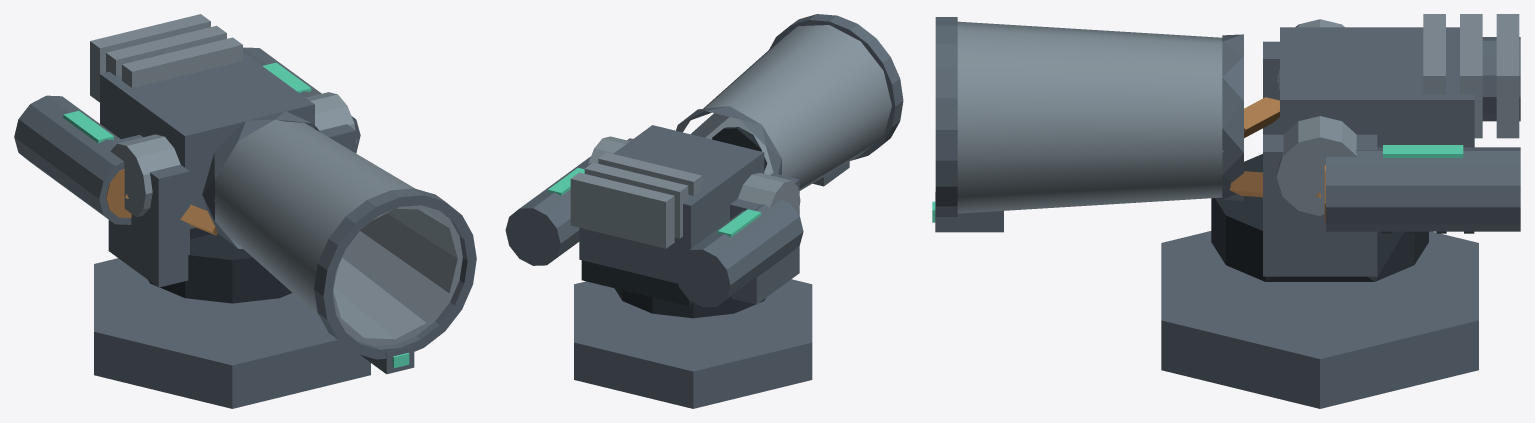
File: plasma_t2_d0.meshopt.glb
3 renders of one model, left to right at view 1: azimuth 30°, elevation 25°; view 2: azimuth 150°, elevation 25°; view 3: azimuth 270°, elevation 25°, orthographic. The views are drawn at different scales.
Parts seen in each view (by area): view 1: ROOT_ARMOR_GEOMETRY; view 2: ROOT_ARMOR_GEOMETRY; view 3: ROOT_ARMOR_GEOMETRY.
Boxes of the visible parts, <box> form: ROOT_ARMOR_GEOMETRY: <box>14,14,476,408</box>; ROOT_ARMOR_GEOMETRY: <box>505,14,903,408</box>; ROOT_ARMOR_GEOMETRY: <box>932,14,1520,408</box>.
Bounding box in the file's own units: 1.6 × 1.47 × 2.57.
